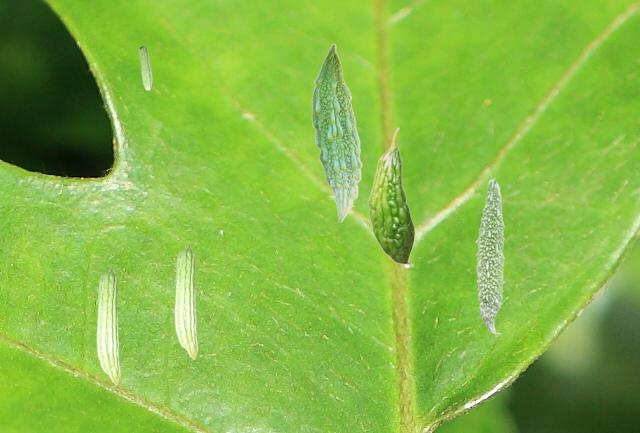ampalaya: (311, 43, 363, 223), (367, 127, 415, 267), (475, 177, 505, 334), (96, 266, 120, 386), (174, 243, 198, 360), (138, 45, 153, 90)
